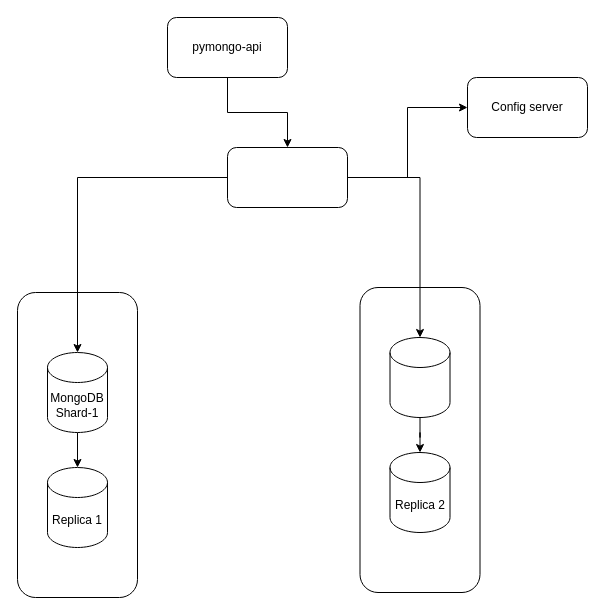
Some shapes in this 605 by 615 pixel diagram are drawn without their labels. Each missing label, with the centre of its shape:
"MongoDB Shard-2" belongs at pixel 419 377.
"Router" belongs at pixel 287 177.
